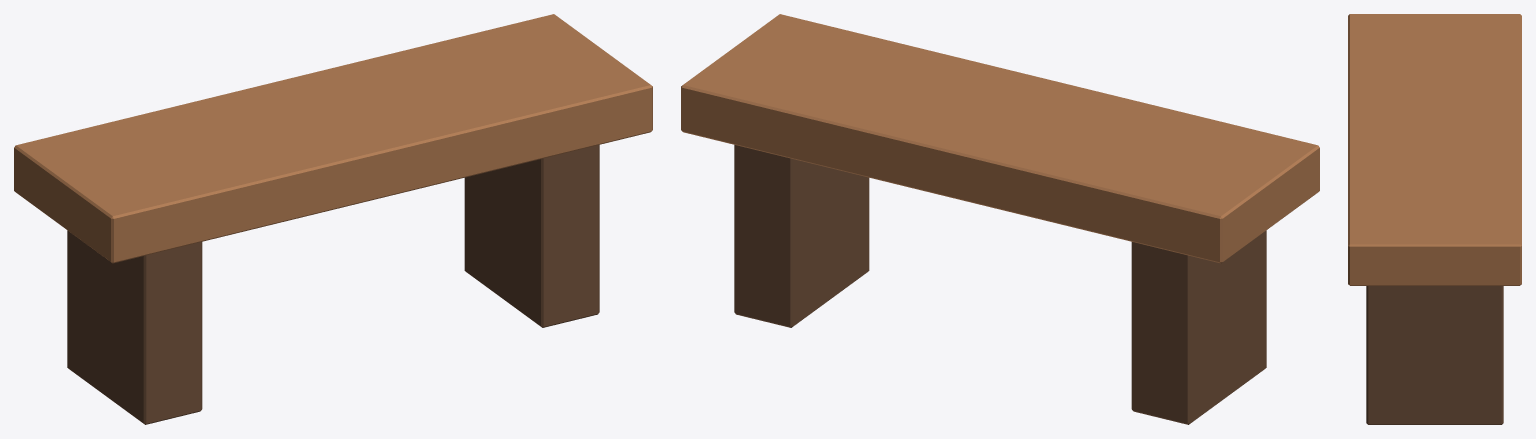
File: wood_bench_simple_01.glb
The picture shows the model from 3 angles, left to right: view 1: azimuth 30°, elevation 25°; view 2: azimuth 150°, elevation 25°; view 3: azimuth 270°, elevation 25°; orthographic projection. The views are drawn at different scales.
Visible parts, largest first — view 1: wood_bench_simple_01; view 2: wood_bench_simple_01; view 3: wood_bench_simple_01.
Boxes of the visible parts, <box> form: wood_bench_simple_01: <box>14,14,652,424</box>; wood_bench_simple_01: <box>681,14,1319,424</box>; wood_bench_simple_01: <box>1348,14,1521,424</box>.
Bounding box in the file's own units: 1.2 × 0.48 × 0.38.
